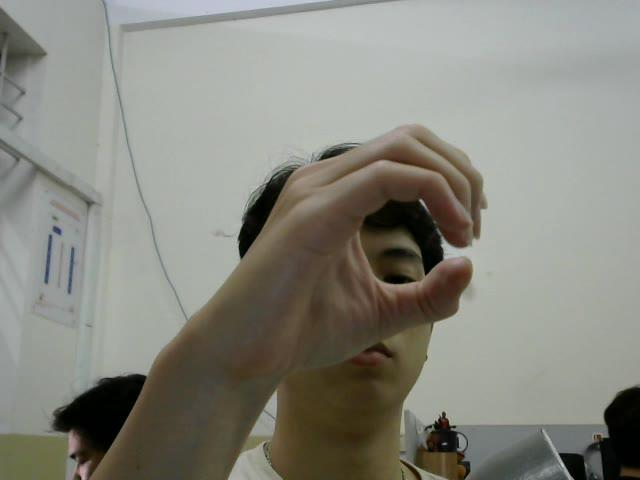C: (220, 120, 488, 378)
